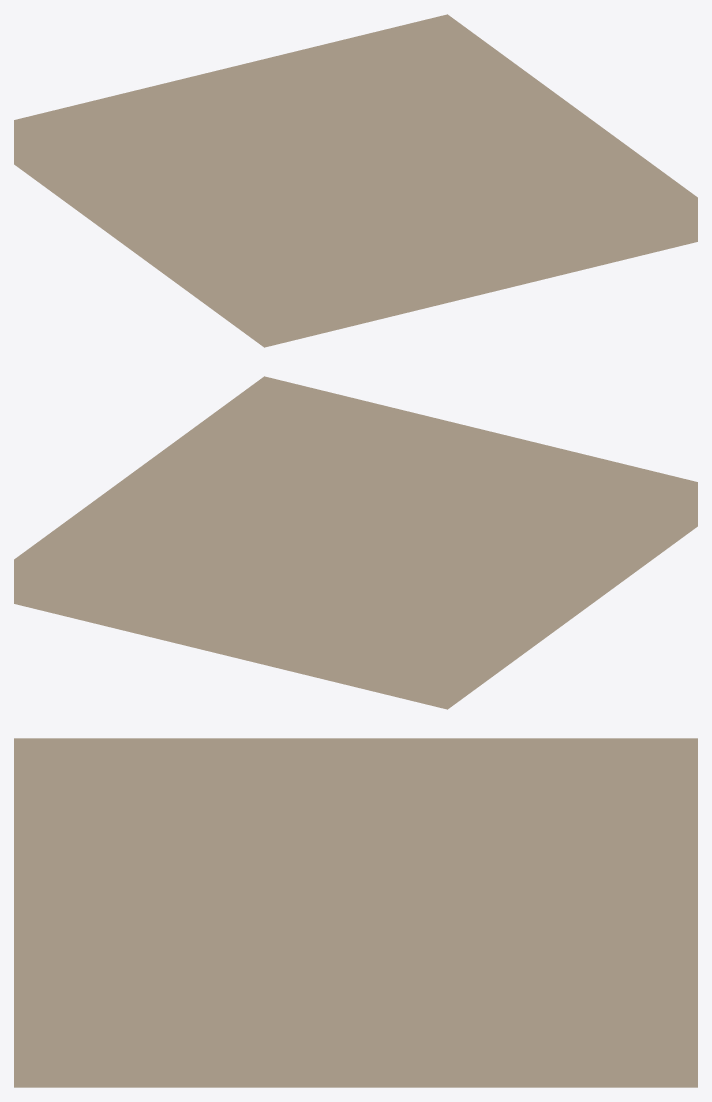
Rendered from garage-floor-tile.obj.
The picture shows the model from 3 angles, top to bottom: view 1: azimuth 30°, elevation 25°; view 2: azimuth 150°, elevation 25°; view 3: azimuth 270°, elevation 25°; orthographic projection. The views are drawn at different scales.
Parts seen in each view (by area): view 1: garage-floor-tile; view 2: garage-floor-tile; view 3: garage-floor-tile.
Boxes of the visible parts, x1,y1,x2,y2 form: garage-floor-tile: (14,14,697,347); garage-floor-tile: (14,376,697,709); garage-floor-tile: (14,738,697,1087).
Bounding box in the file's own units: 0.41 × 0.04 × 0.41.
